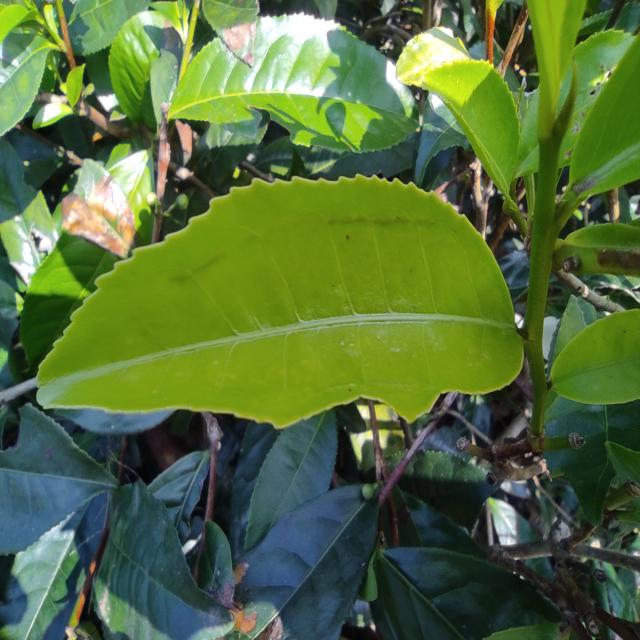Category C(4-7 days): (22, 164, 536, 464)
